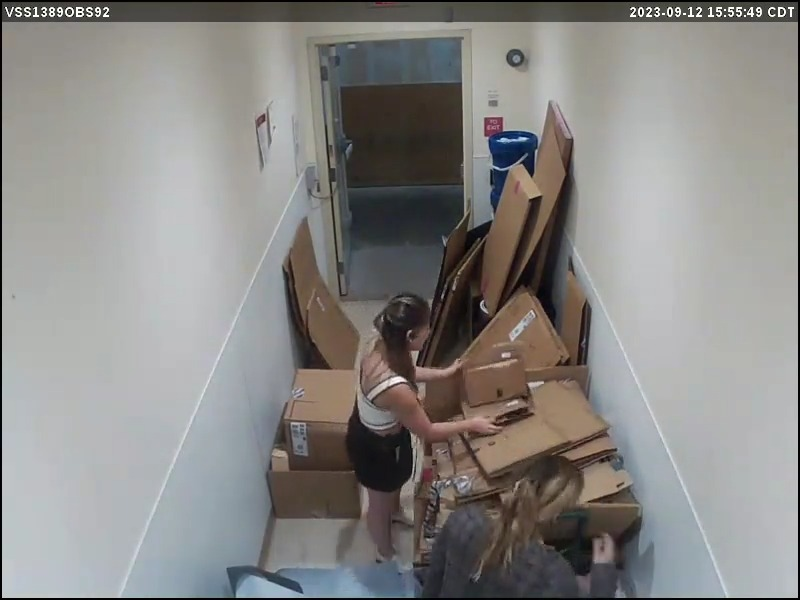No-gloves: (459, 409, 506, 443), (440, 354, 472, 379)
